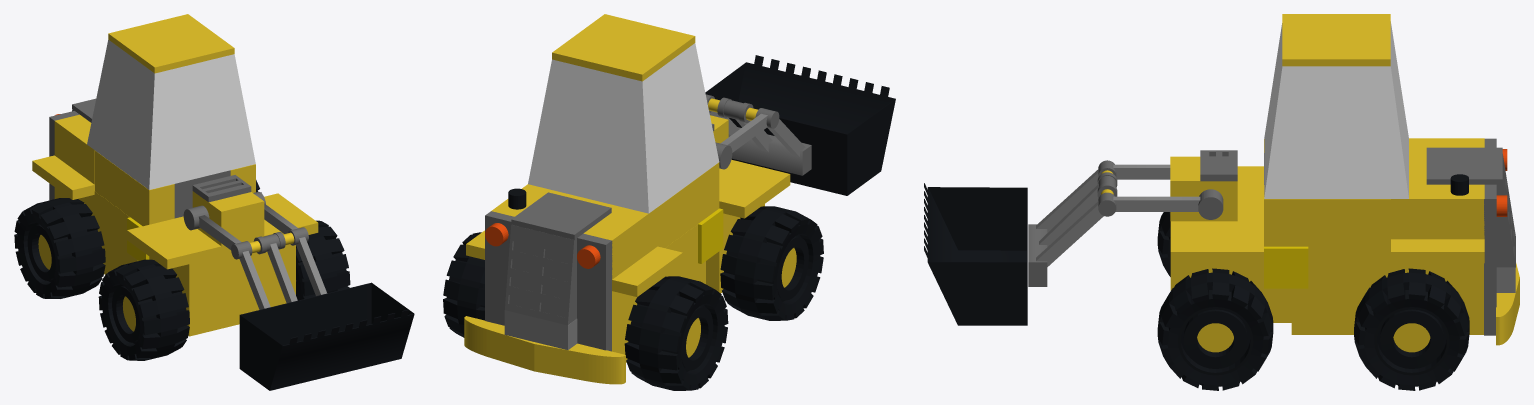
Rendered from TruckTes1.fbx.
The picture shows the model from 3 angles, left to right: view 1: azimuth 30°, elevation 25°; view 2: azimuth 150°, elevation 25°; view 3: azimuth 270°, elevation 25°; orthographic projection. The views are drawn at different scales.
Parts seen in each view (by area): view 1: AtapMobil, Sekop, BadanMobil1, MobilDepan, Ban4, Ban3, BadanMobil2, Kanan, Ban1, PartCrane1, Stir, BelakangMobil (+2 smaller); view 2: AtapMobil, BelakangMobil, Sekop, Ban3, Ban4, BadanMobil2, MobilDepan, BadanMobil1, Kanan, Ban2, PartCrane1, Pinggir2; view 3: AtapMobil, Sekop, BadanMobil2, Ban1, Ban2, BadanMobil1, MobilDepan, Kiri, BelakangMobil, Pinggir1, PartCrane1, Ban3.
Boxes of the visible parts, bbox=[...] form: AtapMobil: bbox=[87, 14, 255, 189]; Sekop: bbox=[183, 191, 414, 390]; BadanMobil1: bbox=[54, 187, 296, 336]; MobilDepan: bbox=[127, 175, 318, 269]; Ban4: bbox=[14, 198, 105, 298]; Ban3: bbox=[98, 259, 189, 360]; BadanMobil2: bbox=[32, 98, 95, 199]; Kanan: bbox=[95, 150, 174, 226]; Ban1: bbox=[296, 220, 350, 300]; PartCrane1: bbox=[250, 232, 297, 303]; Stir: bbox=[174, 170, 230, 218]; BelakangMobil: bbox=[49, 109, 79, 200]; AtapMobil: bbox=[528, 14, 719, 213]; BelakangMobil: bbox=[464, 211, 625, 384]; Sekop: bbox=[705, 55, 895, 195]; Ban3: bbox=[720, 206, 823, 320]; Ban4: bbox=[624, 276, 728, 390]; BadanMobil2: bbox=[466, 184, 682, 296]; MobilDepan: bbox=[710, 115, 790, 218]; BadanMobil1: bbox=[612, 204, 764, 362]; Kanan: bbox=[657, 162, 719, 247]; Ban2: bbox=[443, 232, 484, 337]; PartCrane1: bbox=[708, 97, 772, 152]; Pinggir2: bbox=[698, 208, 723, 263]; AtapMobil: bbox=[1264, 14, 1408, 198]; Sekop: bbox=[924, 160, 1223, 325]; BadanMobil2: bbox=[1391, 138, 1502, 263]; Ban1: bbox=[1157, 268, 1273, 390]; Ban2: bbox=[1354, 268, 1469, 390]; BadanMobil1: bbox=[1170, 246, 1483, 334]; MobilDepan: bbox=[1170, 150, 1263, 263]; Kiri: bbox=[1264, 185, 1390, 246]; BelakangMobil: bbox=[1484, 138, 1519, 345]; Pinggir1: bbox=[1264, 246, 1308, 288]; PartCrane1: bbox=[1039, 170, 1117, 246]; Ban3: bbox=[1157, 212, 1170, 276].
Size of the model in its own units: 591 by 706 by 1273.
